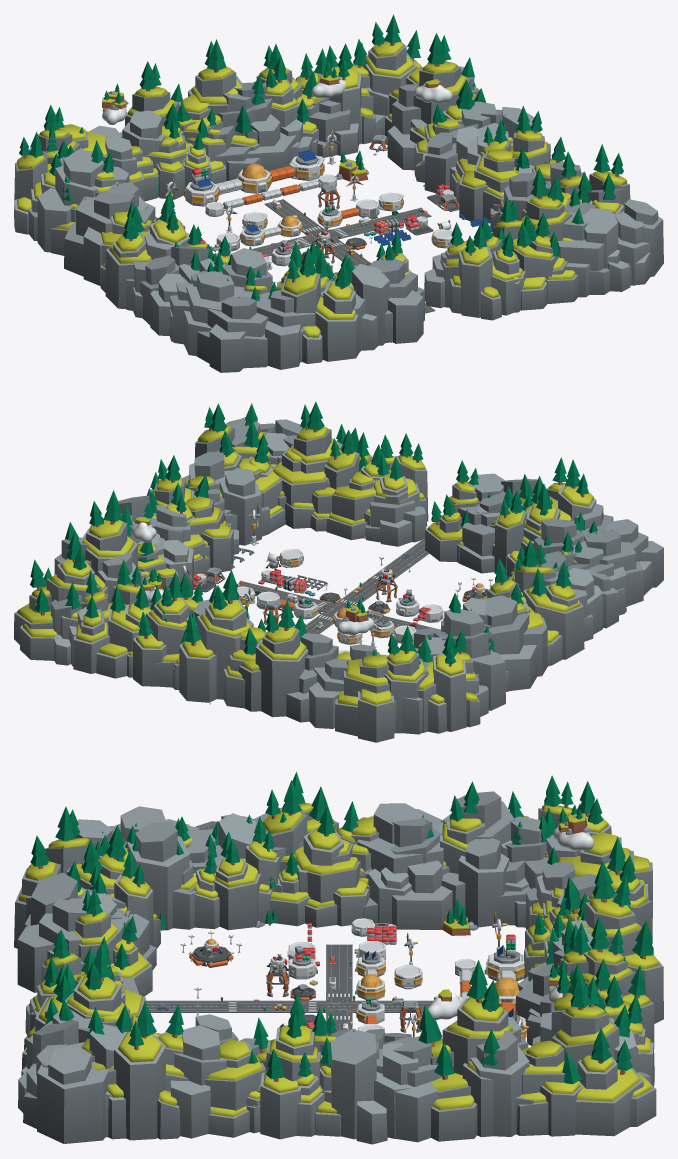
The model's file is kingdom.glb.
3 views of the same model, one above another, from view 1: azimuth 30°, elevation 25°; view 2: azimuth 150°, elevation 25°; view 3: azimuth 270°, elevation 25° (orthographic). The views are drawn at different scales.
Parts seen in each view (by area): view 1: mountain43_mountain_C_grass_trees, mountain50_mountain_C_grass_trees, mountain80_mountain_A, mountain52_mountain_C_grass_trees, mountain70_mountain_C_grass_trees, mountain66_mountain_A, mountain62_mountain_B, mountain54_mountain_B_grass_trees, mountain23_mountain_B_grass_trees, mountain17_mountain_C_grass_trees, mountain58_mountain_C, mountain74_mountain_C (+47 smaller); view 2: mountain11_mountain_B_grass_trees, mountain17_mountain_C_grass_trees, mountain70_mountain_C_grass_trees, mountain7_mountain_B_grass_trees, mountain19_mountain_B_grass_trees, mountain60_mountain_C_grass_trees, mountain1_mountain_A_grass, mountain66_mountain_A, mountain15_mountain_B_grass_trees, mountain62_mountain_B, mountain43_mountain_C_grass_trees, mountain23_mountain_B_grass_trees (+41 smaller); view 3: mountain19_mountain_B_grass_trees, mountain23_mountain_B_grass_trees, mountain37_mountain_C_grass_trees, mountain39_mountain_C, mountain27_mountain_C, mountain31_mountain_B_grass_trees, mountain70_mountain_C_grass_trees, mountain43_mountain_C_grass_trees, mountain73_mountain_C_grass_trees, mountain11_mountain_B_grass_trees, mountain65_mountain_B, mountain20_mountain_A_grass (+53 smaller).
Boxes of the visible parts, <box> form: mountain43_mountain_C_grass_trees: <box>276,241,359,363</box>; mountain50_mountain_C_grass_trees: <box>440,222,523,320</box>; mountain80_mountain_A: <box>197,296,268,372</box>; mountain52_mountain_C_grass_trees: <box>481,197,559,312</box>; mountain70_mountain_C_grass_trees: <box>100,191,189,308</box>; mountain66_mountain_A: <box>64,192,155,285</box>; mountain62_mountain_B: <box>28,150,104,252</box>; mountain54_mountain_B_grass_trees: <box>520,168,583,303</box>; mountain23_mountain_B_grass_trees: <box>410,33,486,143</box>; mountain17_mountain_C_grass_trees: <box>295,43,375,144</box>; mountain58_mountain_C: <box>582,208,650,291</box>; mountain74_mountain_C: <box>140,246,225,335</box>; mountain11_mountain_B_grass_trees: <box>173,569,251,702</box>; mountain17_mountain_C_grass_trees: <box>73,559,151,678</box>; mountain70_mountain_C_grass_trees: <box>487,540,584,665</box>; mountain7_mountain_B_grass_trees: <box>238,600,308,717</box>; mountain19_mountain_B_grass_trees: <box>14,531,101,660</box>; mountain60_mountain_C_grass_trees: <box>410,629,480,733</box>; mountain1_mountain_A_grass: <box>335,654,396,742</box>; mountain66_mountain_A: <box>483,595,547,690</box>; mountain15_mountain_B_grass_trees: <box>127,572,189,686</box>; mountain62_mountain_B: <box>433,609,505,716</box>; mountain43_mountain_C_grass_trees: <box>519,457,596,541</box>; mountain23_mountain_B_grass_trees: <box>65,490,153,583</box>; mountain19_mountain_B_grass_trees: <box>552,972,656,1136</box>; mountain23_mountain_B_grass_trees: <box>418,960,517,1141</box>; mountain37_mountain_C_grass_trees: <box>81,1001,188,1140</box>; mountain39_mountain_C: <box>23,1024,122,1143</box>; mountain27_mountain_C: <box>319,1028,418,1144</box>; mountain31_mountain_B_grass_trees: <box>246,994,320,1139</box>; mountain70_mountain_C_grass_trees: <box>262,772,358,892</box>; mountain43_mountain_C_grass_trees: <box>14,806,126,948</box>; mountain73_mountain_C_grass_trees: <box>213,814,280,930</box>; mountain11_mountain_B_grass_trees: <box>546,861,663,1023</box>; mountain65_mountain_B: <box>390,817,452,929</box>; mountain20_mountain_A_grass: <box>517,1040,583,1136</box>.
Size of the model in its own units: 243 by 64.57 by 244.
3 materials, 3 textured.
